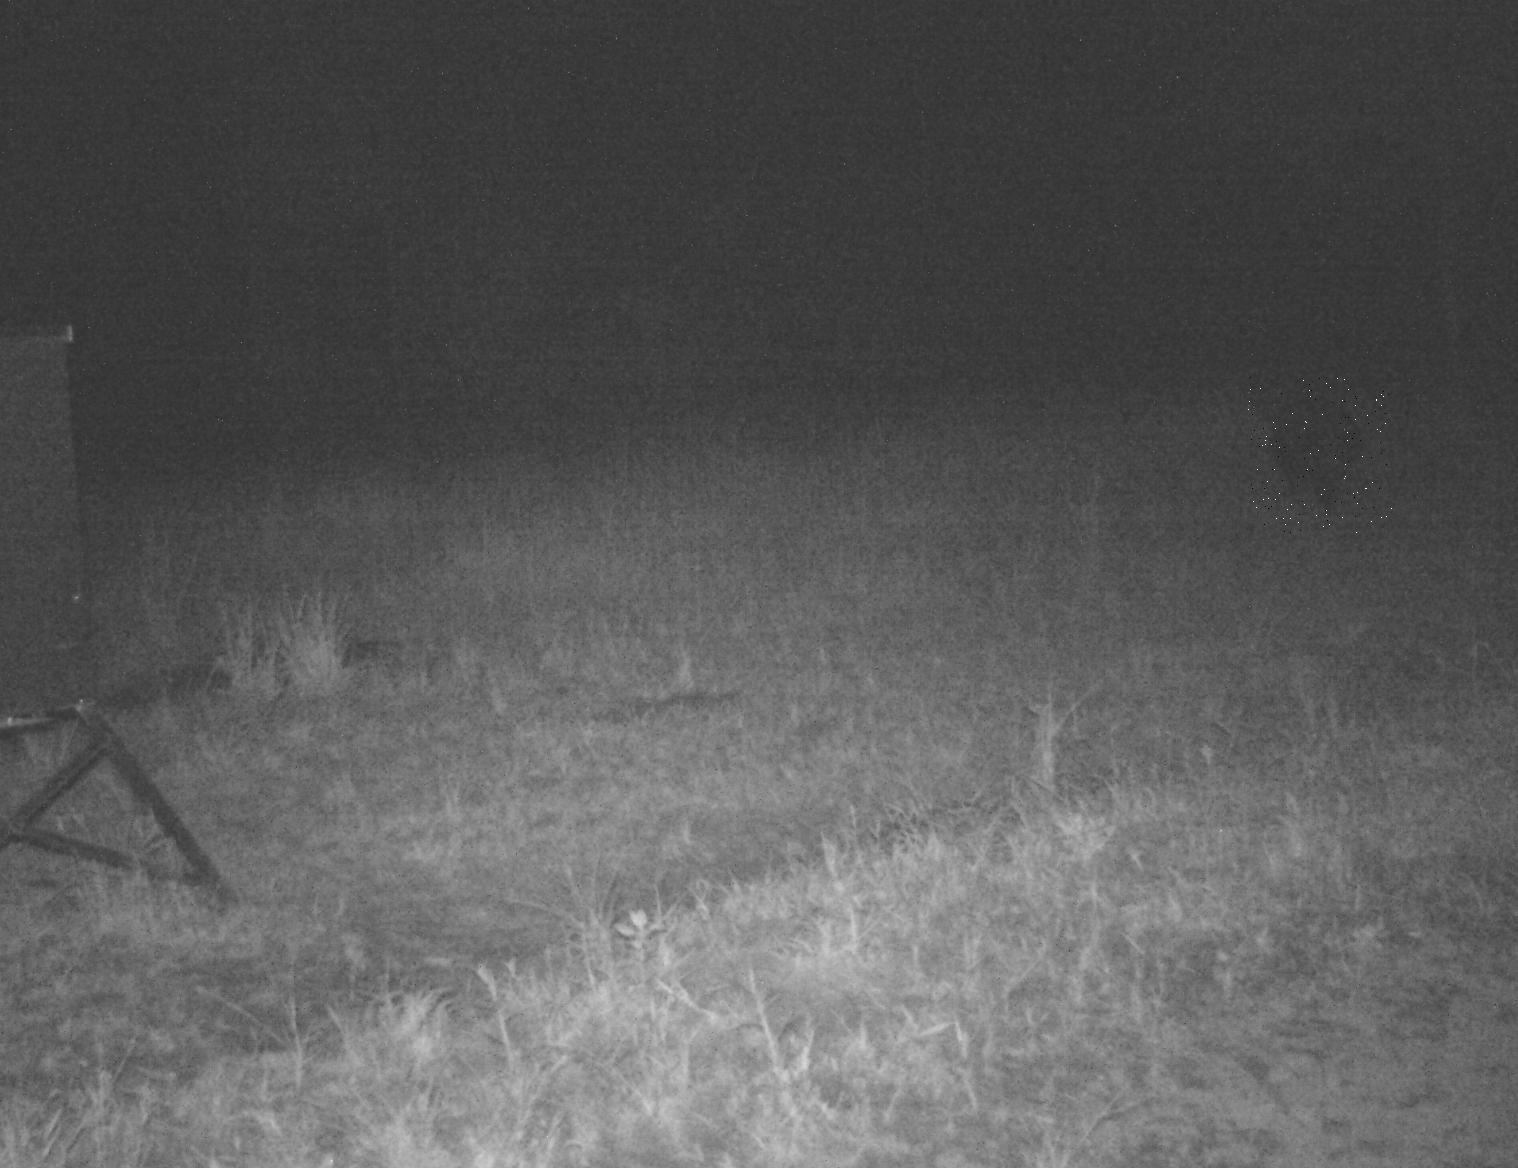Hog: (1248, 377, 1393, 534)
